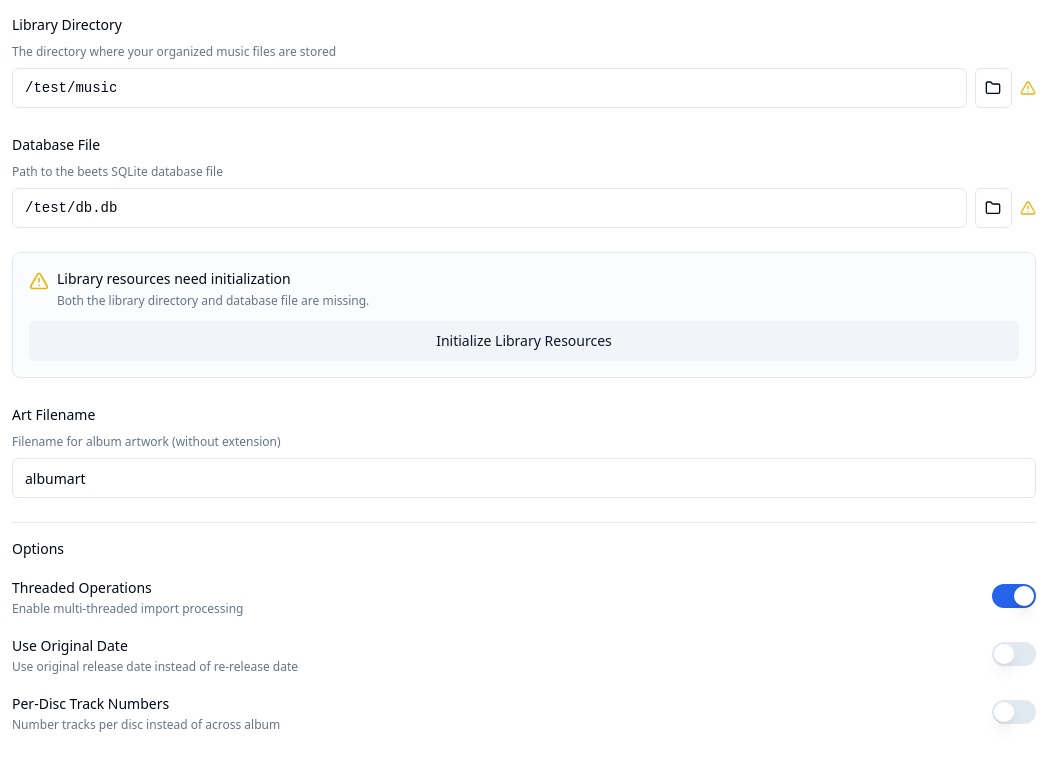
Test case: GeneralSettingsSection › Initialize button › should show error message when initialization fails
This screenshot has width=1048, height=773.
Click the button "Initialize Library Resources". click: click(524, 341)
box: [29,321,1019,361]
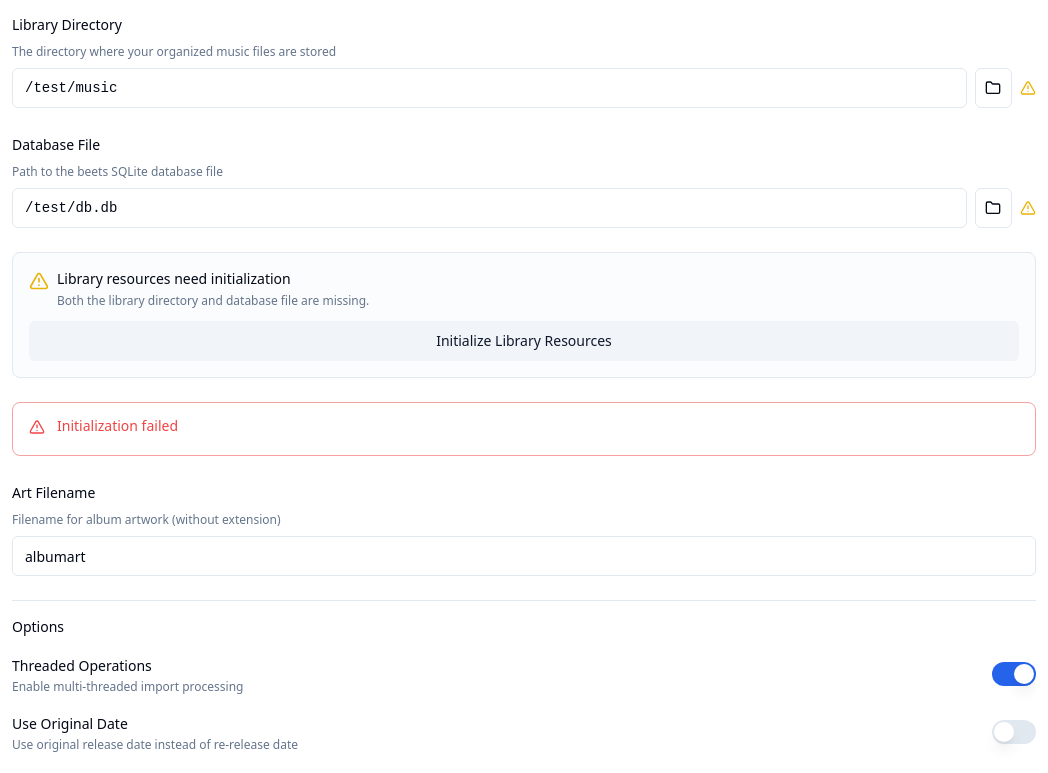
Now the text "Initialization failed" is shown, box [57,416,178,435]
